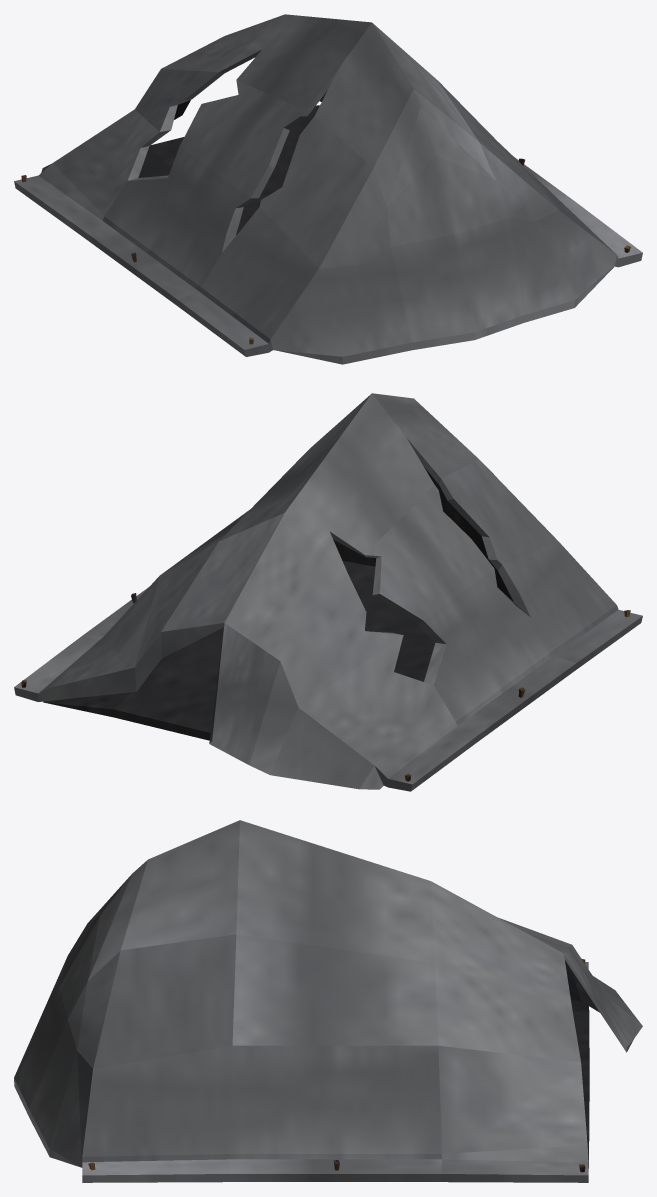
The model's file is tentBroken_Gray.fbx.
The picture shows the model from 3 angles, top to bottom: view 1: azimuth 30°, elevation 25°; view 2: azimuth 150°, elevation 25°; view 3: azimuth 270°, elevation 25°; orthographic projection. The views are drawn at different scales.
Visible parts, largest first — view 1: BrokenTent_Gray; view 2: BrokenTent_Gray; view 3: BrokenTent_Gray.
Part boxes in pixels (x1,y1,x2,y2): BrokenTent_Gray: (14,14,642,364); BrokenTent_Gray: (14,393,642,791); BrokenTent_Gray: (14,820,642,1182).
Size of the model in its own units: 6.36 by 7.91 by 3.82.
Materials: 3 (3 with a texture image).
